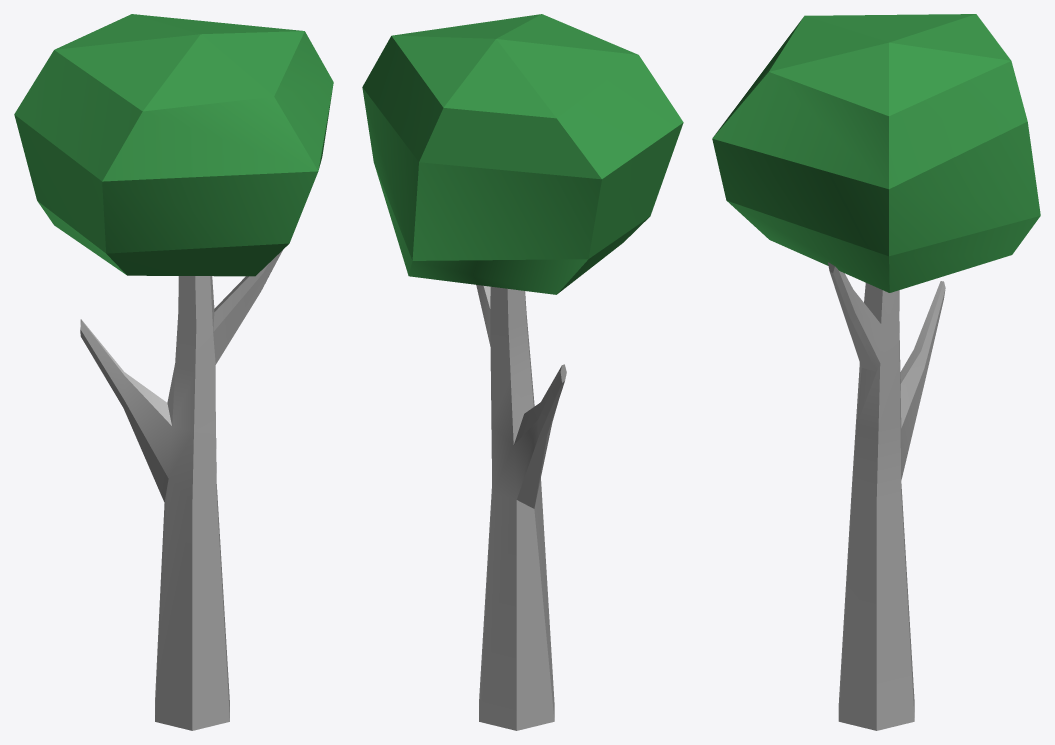
Rendered from Tree2_Model.fbx.
3 views of the same model, side by side, from view 1: azimuth 30°, elevation 25°; view 2: azimuth 150°, elevation 25°; view 3: azimuth 270°, elevation 25° (orthographic).
Parts seen in each view (by area): view 1: polySurface5, polySurface4; view 2: polySurface5, polySurface4; view 3: polySurface5, polySurface4.
Boxes of the visible parts, x1,y1,x2,y2 form: polySurface5: (14,14,333,276); polySurface4: (80,250,282,730); polySurface5: (362,14,683,294); polySurface4: (476,285,566,730); polySurface5: (712,14,1040,292); polySurface4: (828,262,945,730).
Size of the model in its own units: 4.06 by 9.32 by 4.1.
